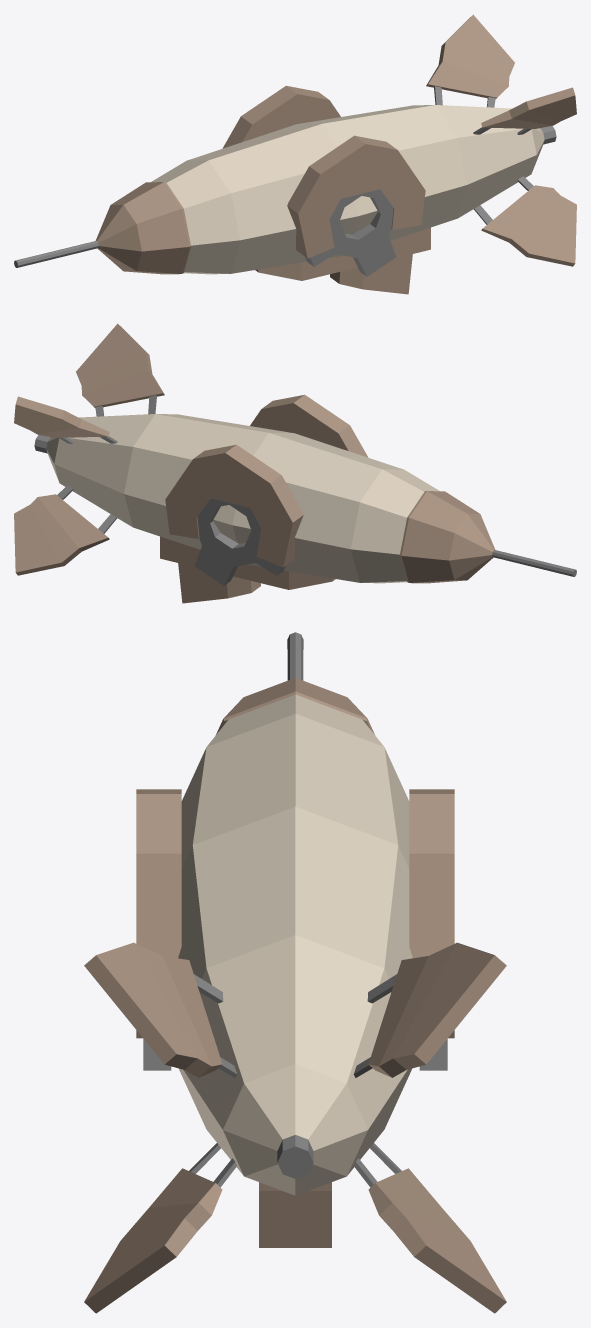
File: Blimp.fbx
3 renders of one model, top to bottom at view 1: azimuth 30°, elevation 25°; view 2: azimuth 150°, elevation 25°; view 3: azimuth 270°, elevation 25°, orthographic. The views are drawn at different scales.
Parts seen in each view (by area): view 1: Sphere, Circle.001, Cube, Sphere.001, Cube.002, Circle, Cube.001; view 2: Sphere, Circle.001, Cube, Sphere.001, Cube.002, Circle, Cube.001; view 3: Sphere, Cube, Circle.001, Cube.002, Sphere.001, Cube.001, Circle.
Boxes of the visible parts, x1,y1,x2,y2 form: Sphere: [151, 105, 556, 274]; Circle.001: [222, 85, 425, 258]; Cube: [426, 14, 576, 266]; Sphere.001: [14, 182, 190, 274]; Cube.002: [255, 227, 430, 294]; Circle: [296, 189, 396, 276]; Cube.001: [434, 86, 533, 224]; Sphere: [34, 414, 439, 583]; Circle.001: [165, 394, 368, 567]; Cube: [14, 323, 164, 575]; Sphere.001: [400, 491, 576, 583]; Cube.002: [160, 536, 335, 603]; Circle: [194, 498, 294, 585]; Cube.001: [57, 395, 156, 533]; Sphere: [178, 694, 412, 1195]; Cube: [84, 942, 506, 1313]; Circle.001: [136, 789, 454, 1038]; Cube.002: [259, 1182, 331, 1247]; Sphere.001: [216, 632, 374, 734]; Cube.001: [189, 974, 401, 1187]; Circle: [143, 1039, 447, 1070].
Size of the model in its own units: 1202 by 443 by 411.
